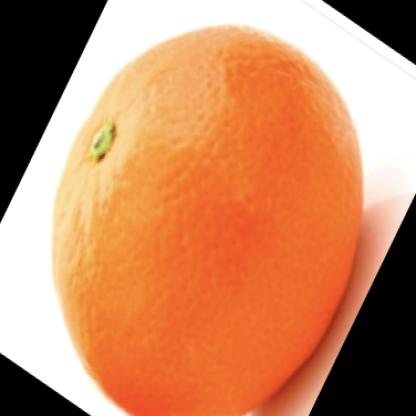fresh: (51, 21, 360, 416)
